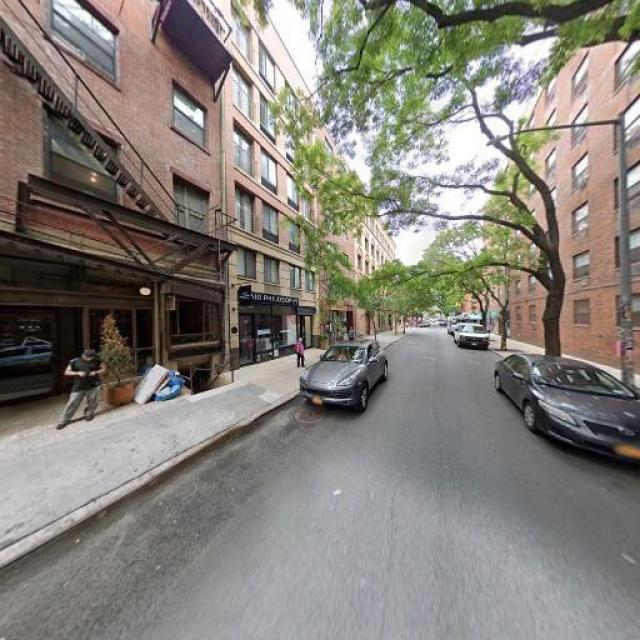Building: (1, 1, 222, 432), (485, 1, 640, 374), (224, 1, 317, 373)
